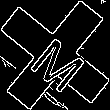M_NE: (21, 21, 89, 89)
